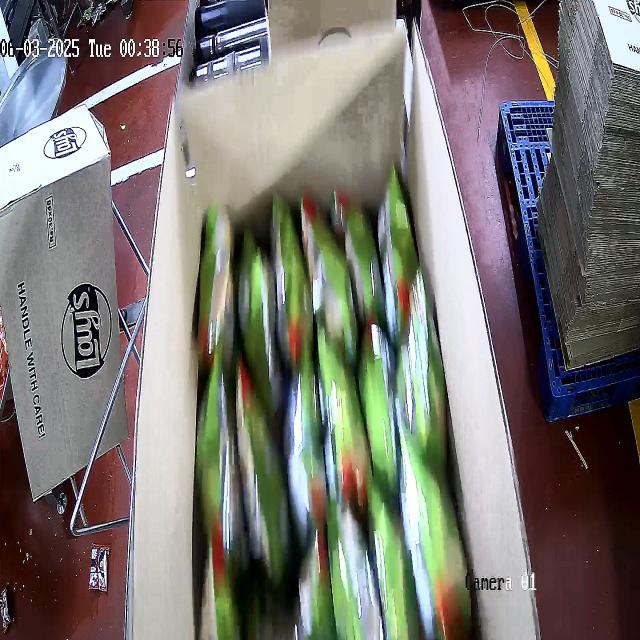YOGURT_HERB: (195, 206, 464, 634)
